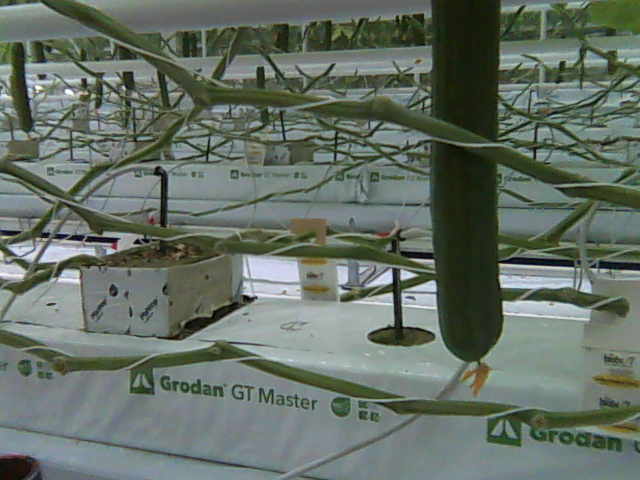concombre: (428, 1, 503, 399)
